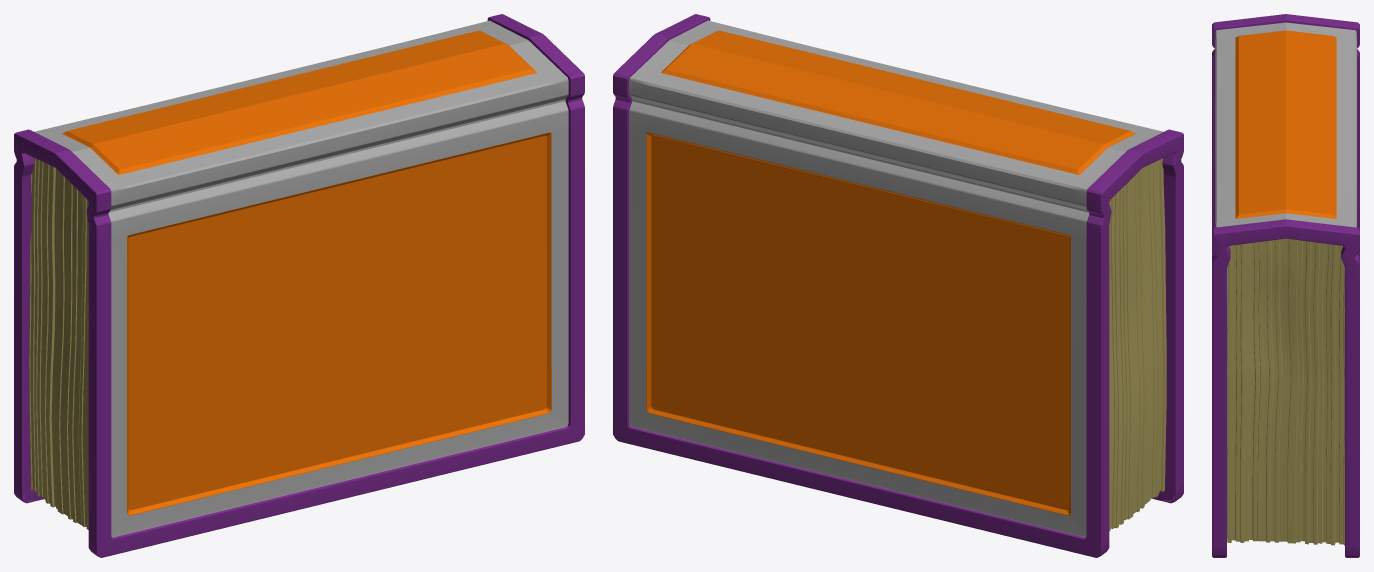
Rendered from Book_high.fbx.
3 renders of one model, left to right at view 1: azimuth 30°, elevation 25°; view 2: azimuth 150°, elevation 25°; view 3: azimuth 270°, elevation 25°, orthographic. The views are drawn at different scales.
Parts seen in each view (by area): view 1: Book_high; view 2: Book_high; view 3: Book_high.
Boxes of the visible parts, x1,y1,x2,y2 form: Book_high: [14, 14, 584, 557]; Book_high: [613, 14, 1183, 557]; Book_high: [1212, 14, 1359, 557].
Size of the model in its own units: 16.93 by 12.44 by 4.97.
